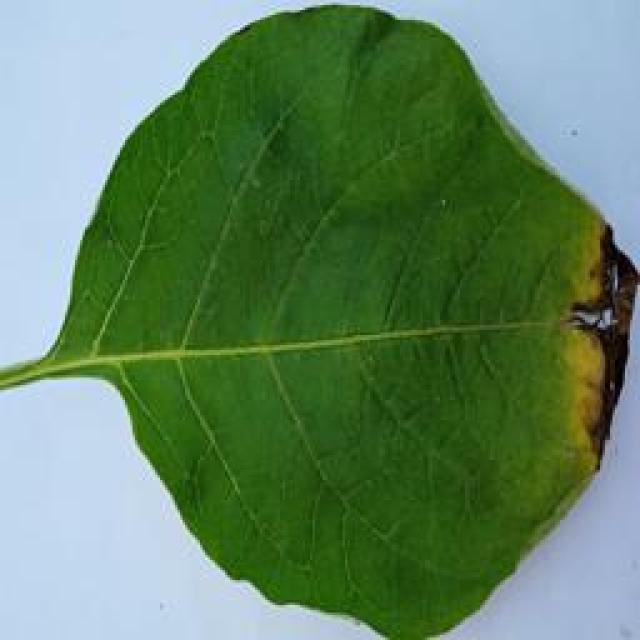Potato_Late_Blight: (3, 4, 627, 634)
